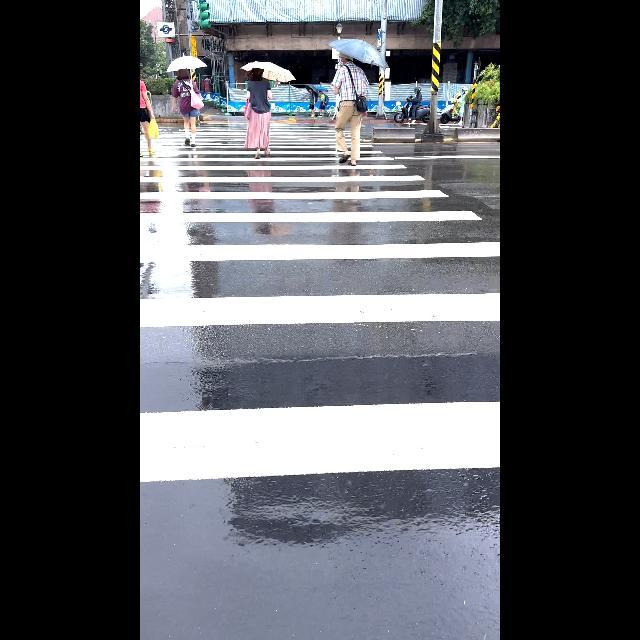sidewalk: (141, 123, 500, 481)
